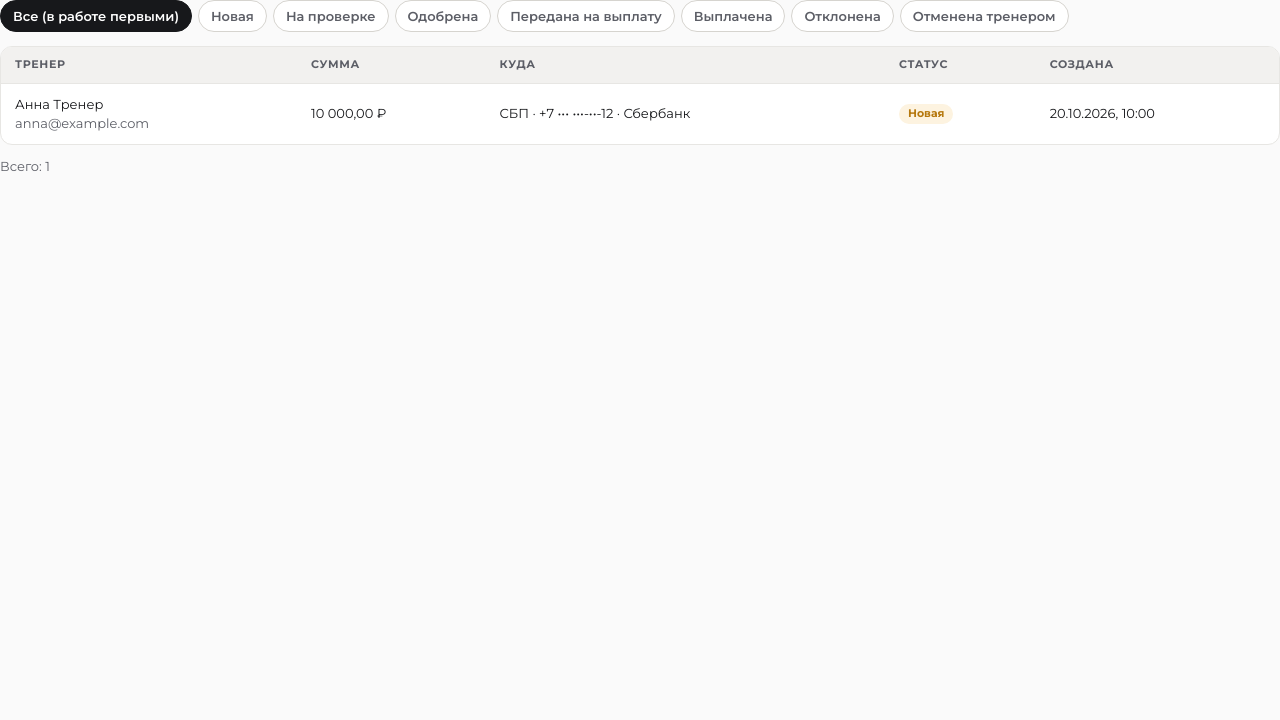
Scenario: handling a withdrawal request › keeps the requisites hidden until they are asked for explicitly
Click the text "Анна Тренер": (149, 114) [1,83,297,144]
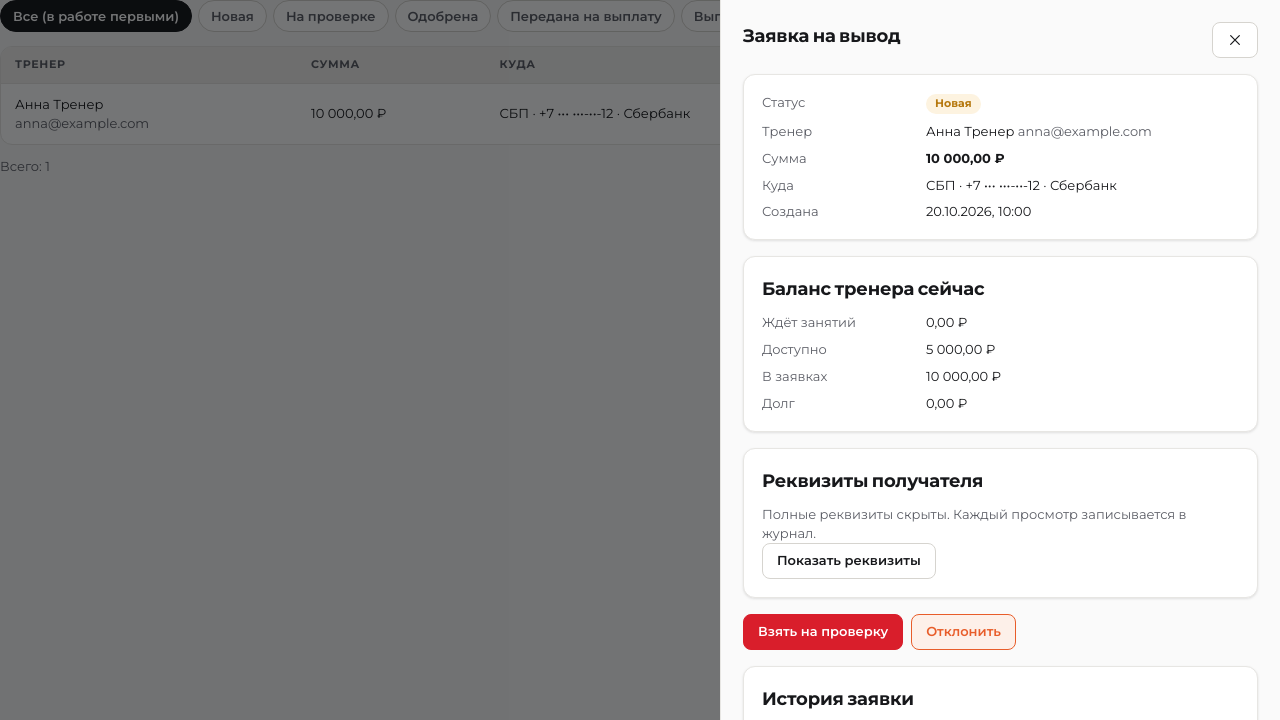
expect the text "+79123456789" is not shown: met
Click the button "Показать реквизиты": (849, 561) [762,543,936,579]
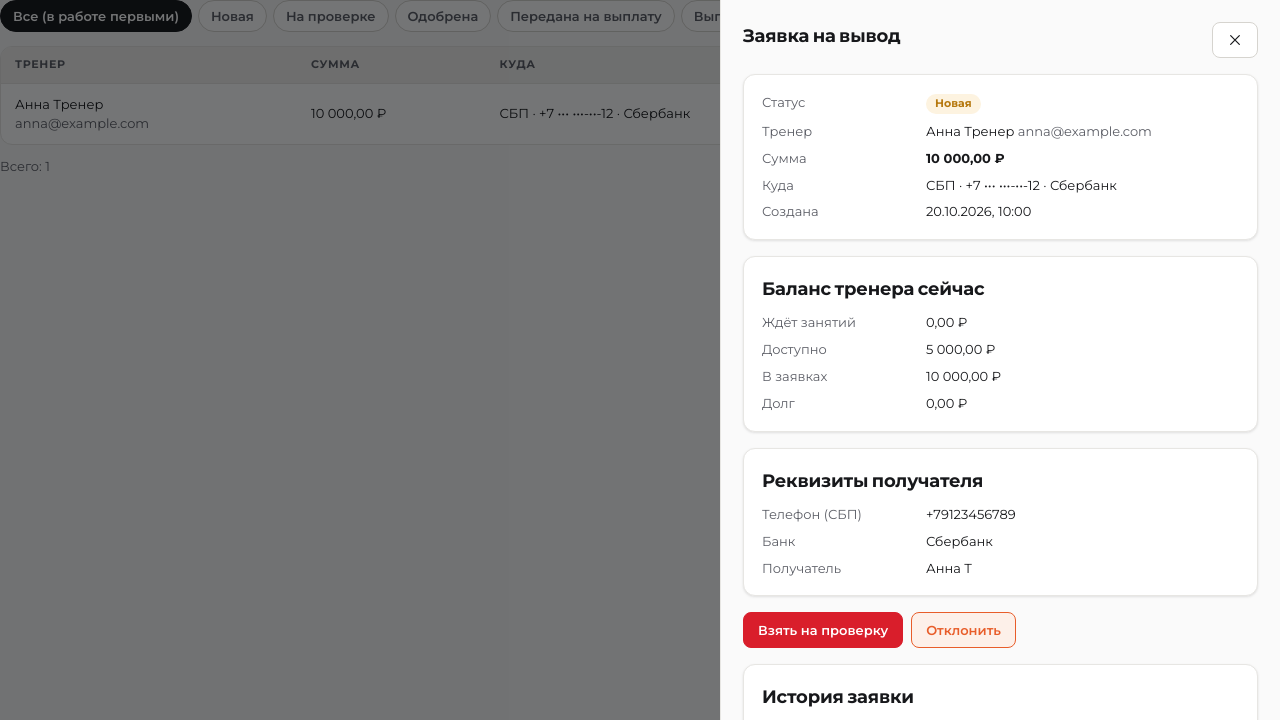
expect the text "+79123456789" is shown: met, box [926,506,1016,522]
